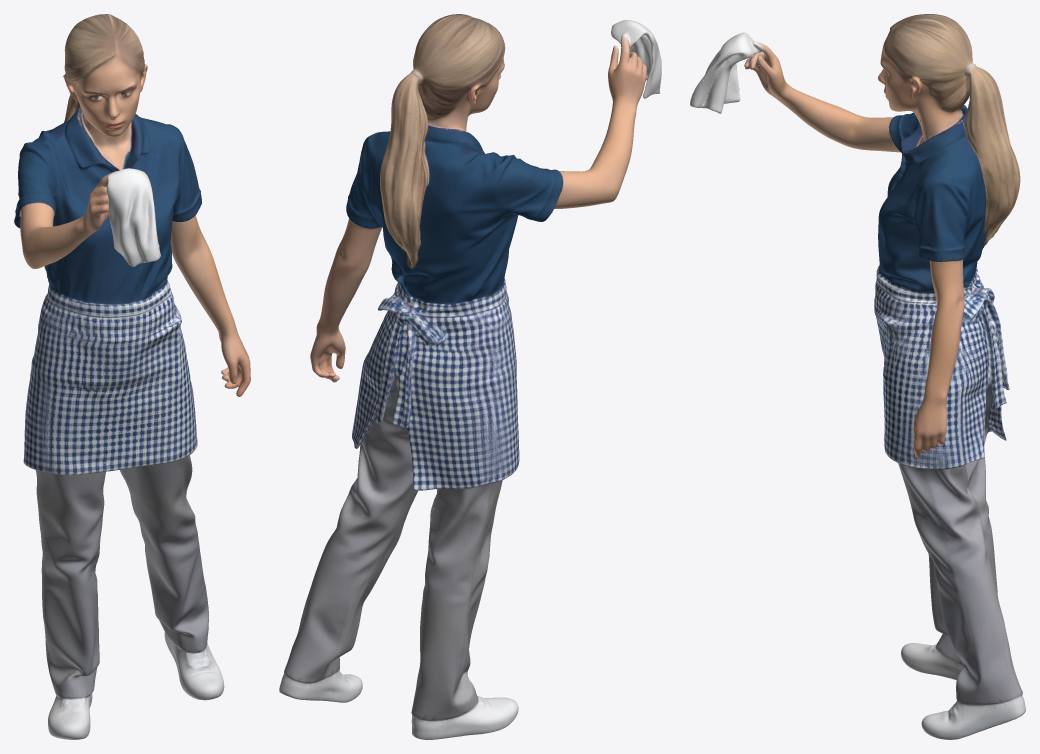
Rendered from cleaner_in_uniform.glb.
The picture shows the model from 3 angles, left to right: view 1: azimuth 30°, elevation 25°; view 2: azimuth 150°, elevation 25°; view 3: azimuth 270°, elevation 25°; orthographic projection. The views are drawn at different scales.
Parts seen in each view (by area): view 1: Object_5, Object_6, Object_7; view 2: Object_6, Object_5; view 3: Object_6, Object_5, Object_7.
Boxes of the visible parts, x1,y1,x2,y2 form: Object_5: (14, 15, 250, 739); Object_6: (18, 14, 226, 736); Object_7: (64, 78, 221, 699); Object_6: (279, 14, 528, 739); Object_5: (310, 14, 661, 718); Object_6: (885, 14, 1025, 739); Object_5: (690, 14, 985, 731); Object_7: (918, 276, 956, 728).
Size of the model in its own units: 0.7439 by 1.9 by 0.8678.
1 material, 1 textured.
